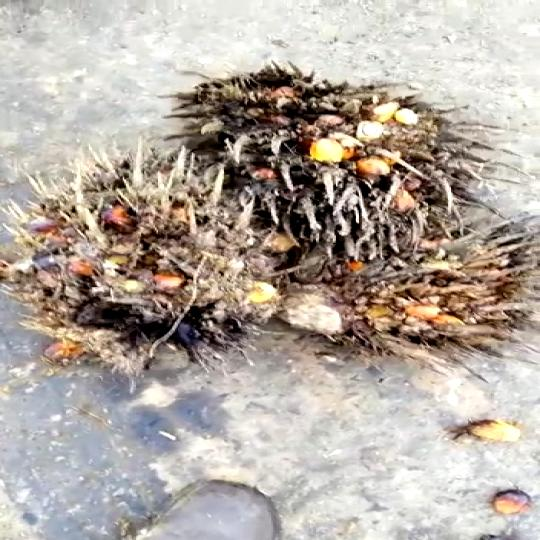terlalu masak: (0, 146, 313, 351), (158, 74, 506, 218), (267, 212, 540, 366)
